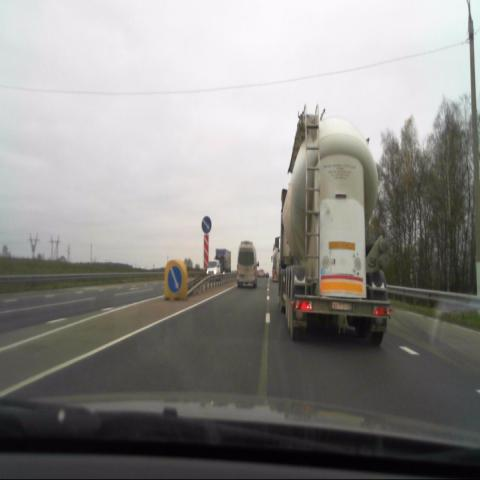4_2_1: (167, 264, 183, 293)
